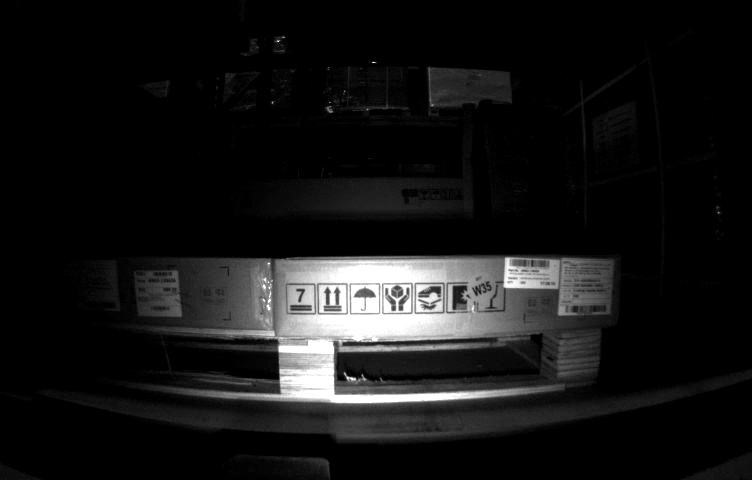True Barcode: (134, 268, 180, 316)
